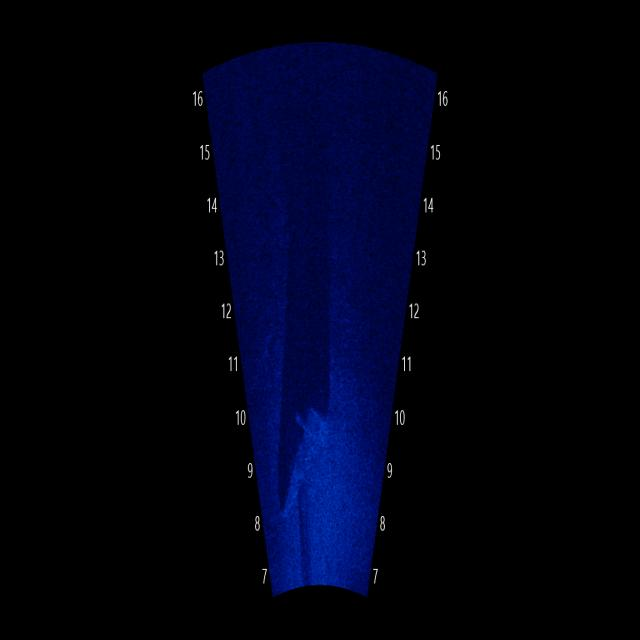triangle: (274, 391, 336, 536)
